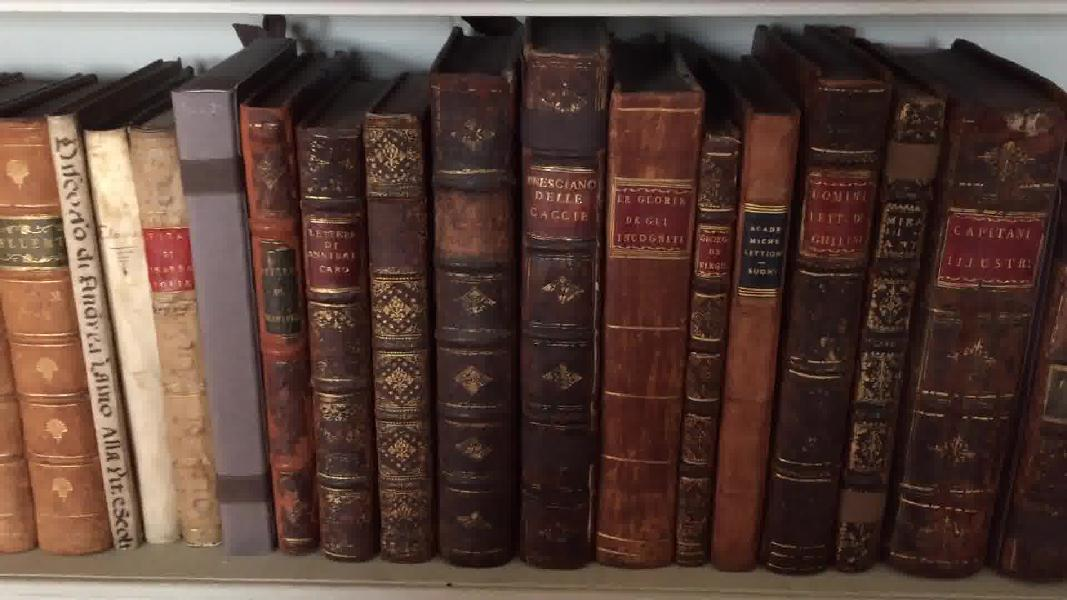Aa6-24: (36, 108, 150, 550)
Aa6-25: (74, 115, 188, 554)
Aa6-26: (125, 117, 231, 547)
Aa6-27: (165, 85, 285, 559)
Aa6-28: (229, 101, 328, 574)
Aa6-29: (294, 107, 386, 567)
Aa6-30: (365, 100, 443, 579)
Aa6-31: (425, 58, 521, 565)
Aa6-32: (520, 27, 606, 575)
Aa6-33: (594, 65, 701, 574)
Aa6-34: (673, 90, 740, 581)
Aa6-35: (715, 67, 802, 586)
Aa6-36: (763, 52, 894, 573)
Aa6-37: (832, 27, 950, 582)
Aa6-38: (873, 23, 1067, 572)
